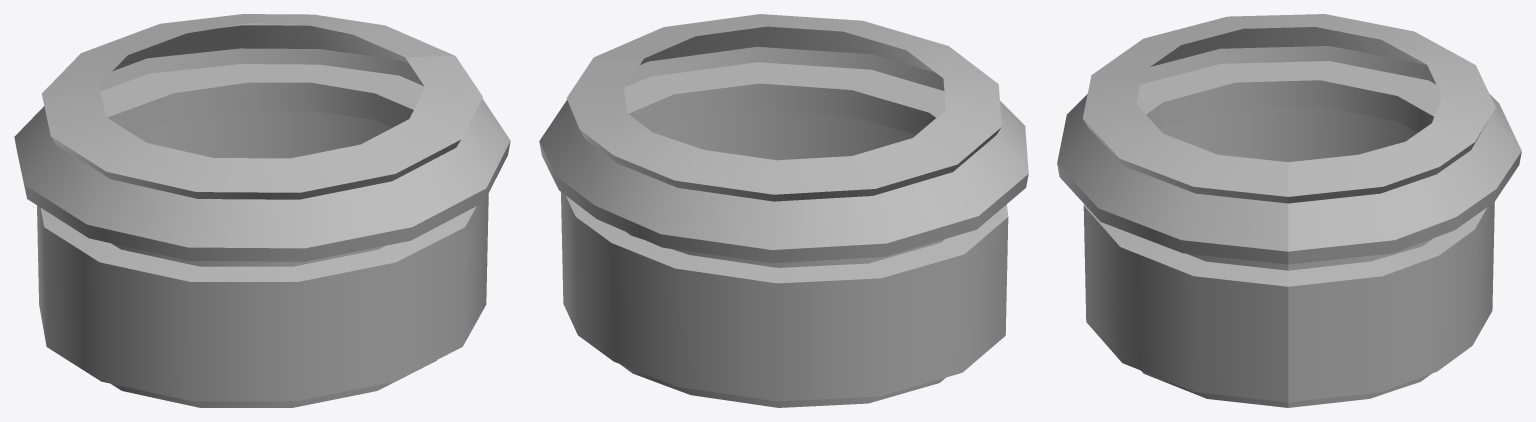
File: KF_SM_TurbinePart.fbx
The picture shows the model from 3 angles, left to right: view 1: azimuth 30°, elevation 25°; view 2: azimuth 150°, elevation 25°; view 3: azimuth 270°, elevation 25°; orthographic projection. The views are drawn at different scales.
Visible parts, largest first — view 1: KF_SM_TurbinePart; view 2: KF_SM_TurbinePart; view 3: KF_SM_TurbinePart.
Part boxes in pixels (x1,y1,x2,y2): KF_SM_TurbinePart: (14, 14, 510, 407); KF_SM_TurbinePart: (539, 14, 1028, 407); KF_SM_TurbinePart: (1057, 14, 1521, 407).
Bounding box in the file's own units: 618 × 325 × 590.
